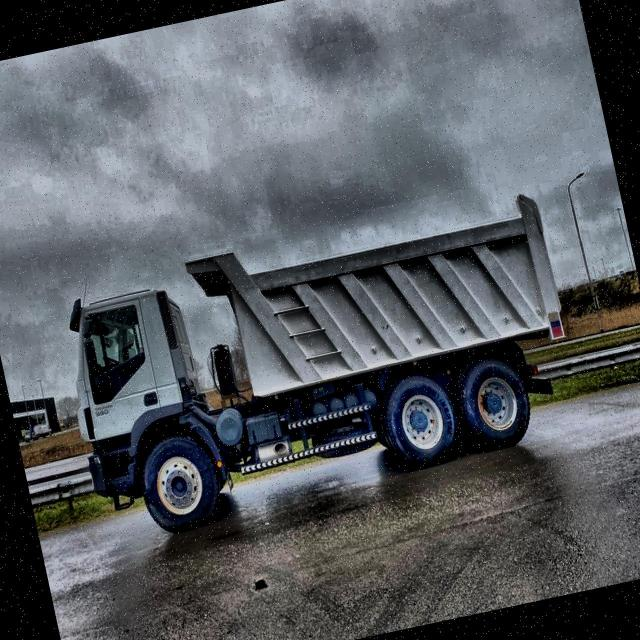dump_truck: (41, 174, 590, 551)
